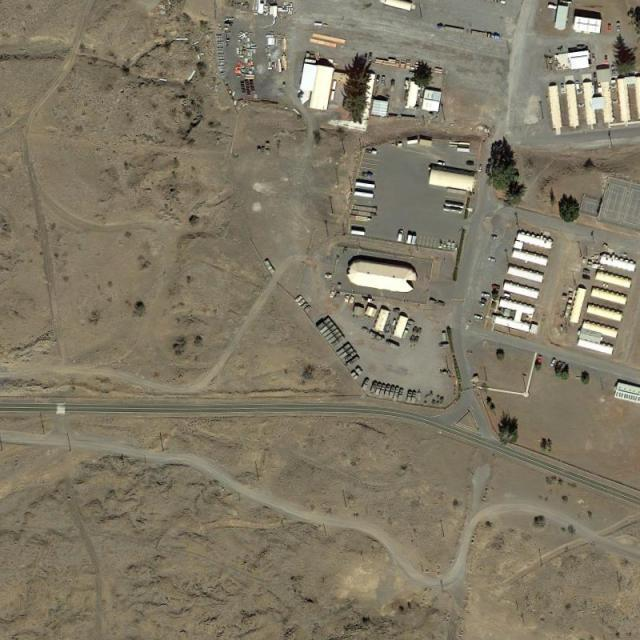vehicle: (368, 330, 386, 343), (316, 317, 332, 331), (337, 343, 351, 357), (345, 356, 360, 369), (342, 352, 357, 365), (339, 348, 354, 361), (330, 336, 345, 349), (322, 325, 337, 338), (326, 329, 340, 342), (320, 322, 334, 335), (327, 333, 342, 345), (386, 341, 400, 351), (403, 77, 413, 90), (374, 383, 383, 396), (397, 230, 405, 244), (370, 381, 378, 394), (389, 386, 397, 399), (361, 172, 375, 179), (393, 387, 400, 401), (362, 378, 370, 390), (378, 386, 386, 398), (294, 294, 304, 303), (474, 314, 485, 322), (384, 386, 391, 398), (398, 389, 405, 401), (389, 79, 395, 93), (297, 298, 306, 307), (550, 357, 558, 367), (575, 80, 582, 91), (349, 295, 356, 306), (343, 294, 350, 305), (406, 391, 413, 402), (482, 291, 491, 299), (560, 83, 566, 95), (586, 259, 593, 269), (465, 160, 476, 166), (329, 290, 336, 299), (492, 283, 501, 290), (478, 164, 484, 174), (412, 392, 417, 404), (582, 274, 592, 280), (488, 256, 496, 263), (325, 273, 333, 280), (593, 72, 598, 83), (478, 301, 487, 307), (617, 22, 622, 32), (492, 234, 499, 241), (538, 355, 543, 364), (436, 162, 447, 166), (612, 66, 617, 74), (382, 77, 386, 86), (608, 25, 613, 32), (605, 54, 609, 62), (481, 298, 489, 302)
